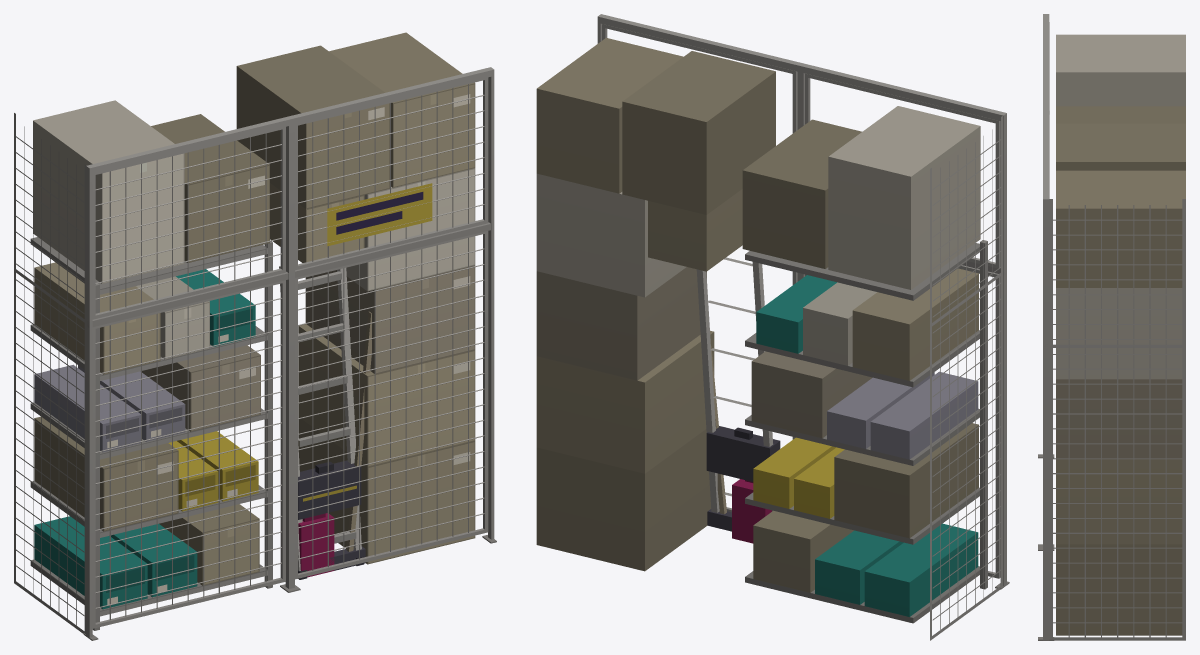
Rendered from parts_cage.glb.
The picture shows the model from 3 angles, left to right: view 1: azimuth 30°, elevation 25°; view 2: azimuth 150°, elevation 25°; view 3: azimuth 270°, elevation 25°; orthographic projection. The views are drawn at different scales.
Visible parts, largest first — view 1: parts_cage; view 2: parts_cage; view 3: parts_cage.
Boxes of the visible parts, x1,y1,x2,y2 form: parts_cage: (14,32,496,640); parts_cage: (536,14,1009,640); parts_cage: (1038,14,1185,640).
Size of the model in its own units: 2.7 by 3 by 0.91.
